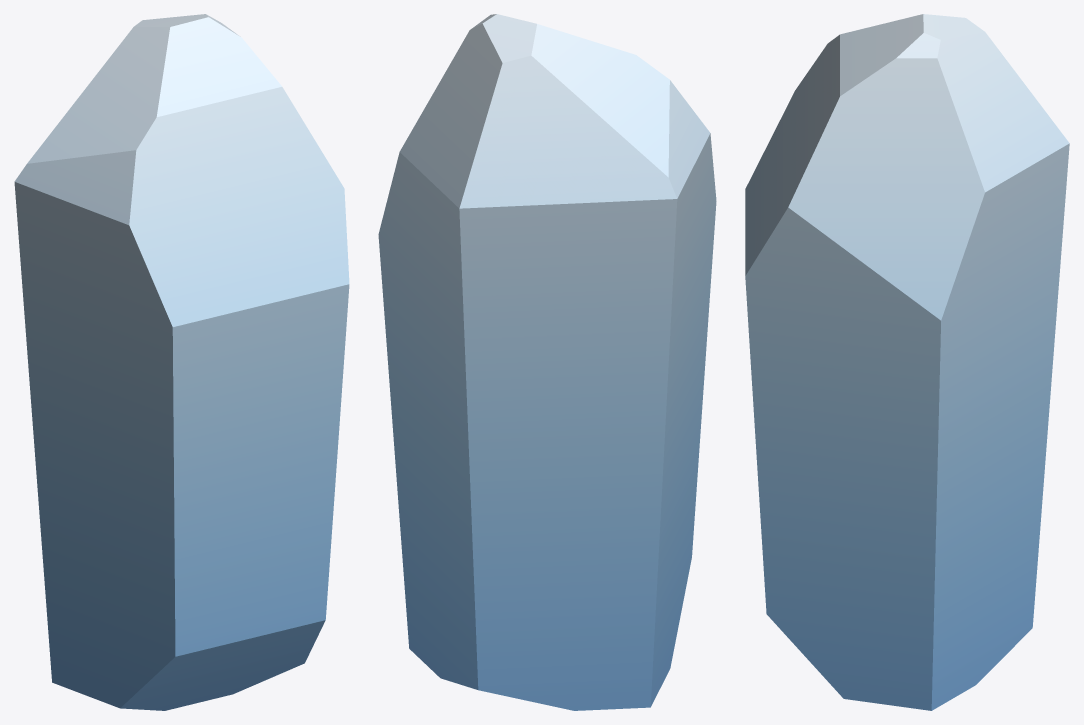
Rendered from Crystal_03.fbx.
3 views of the same model, side by side, from view 1: azimuth 30°, elevation 25°; view 2: azimuth 150°, elevation 25°; view 3: azimuth 270°, elevation 25° (orthographic). The views are drawn at different scales.
Visible parts, largest first — view 1: Crystal_03; view 2: Crystal_03; view 3: Crystal_03.
Part boxes in pixels (left/top/right/bottom): Crystal_03: left=14, top=14, right=349, bottom=710; Crystal_03: left=378, top=14, right=716, bottom=710; Crystal_03: left=745, top=14, right=1069, bottom=710.
Bounding box in the file's own units: 0.8444 × 1.83 × 0.8078.
